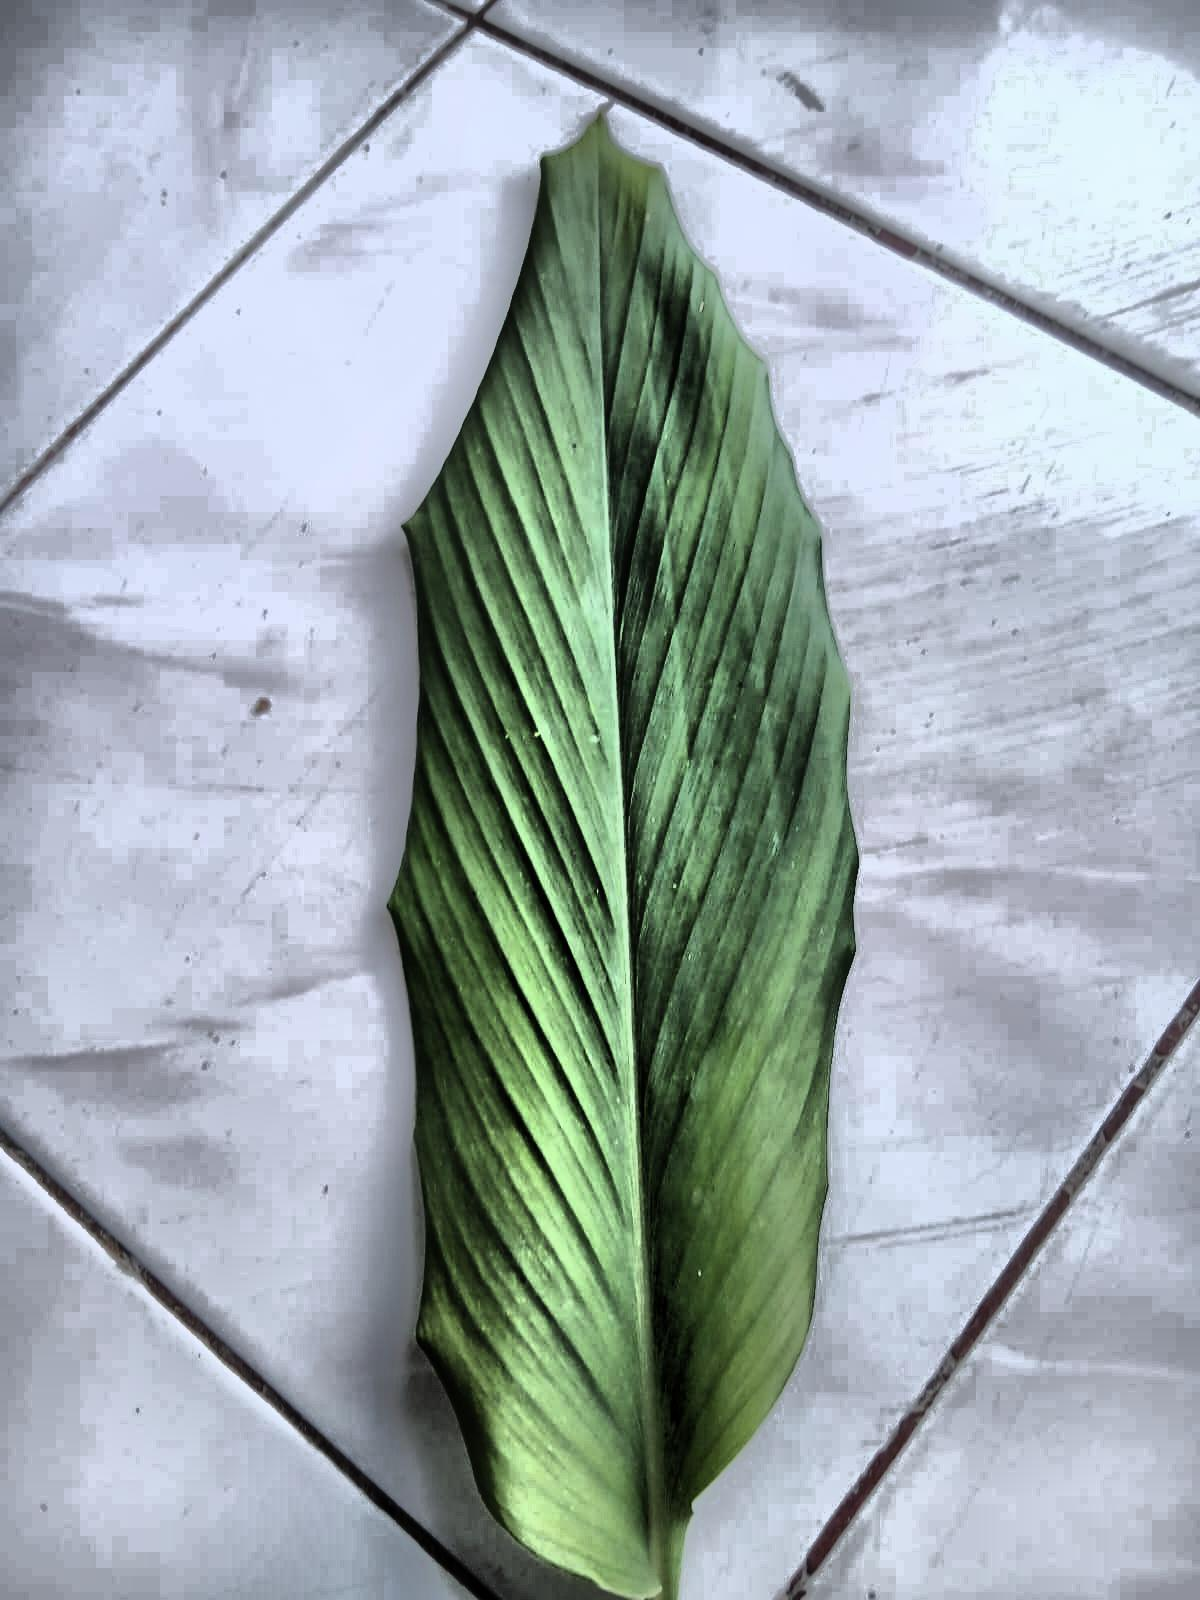daun kunyit: (389, 118, 857, 1599)
